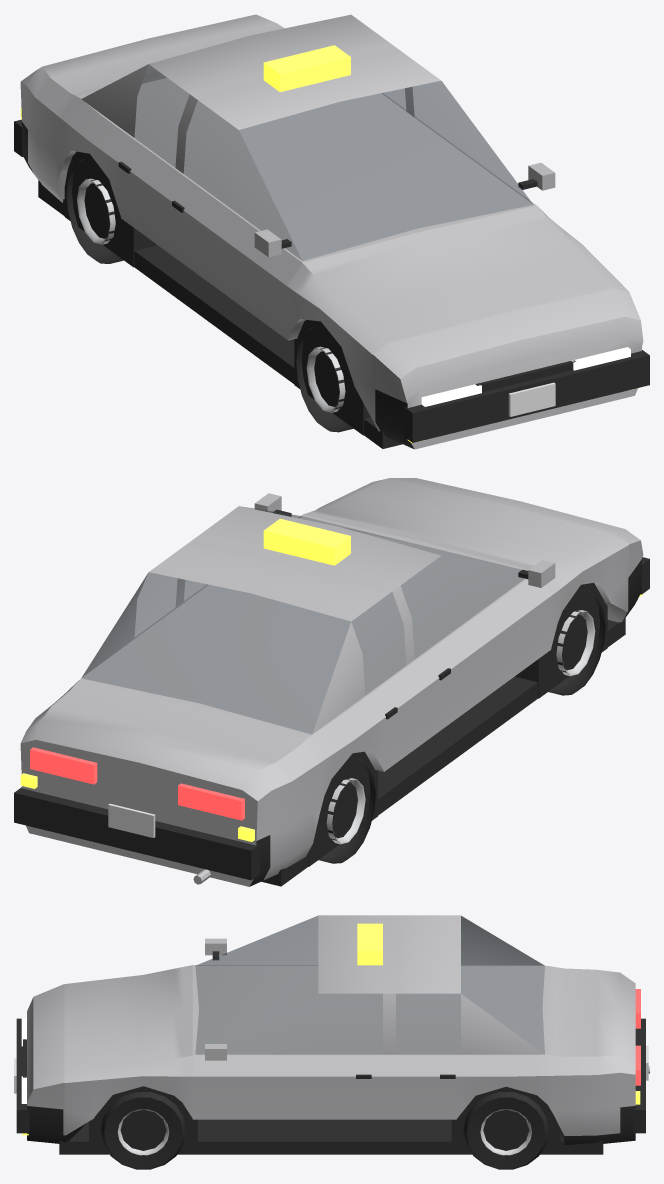
Rendered from taxi.glb.
3 views of the same model, one above another, from view 1: azimuth 30°, elevation 25°; view 2: azimuth 150°, elevation 25°; view 3: azimuth 270°, elevation 25° (orthographic). The views are drawn at different scales.
Visible parts, largest first — view 1: body, toplight, wheel_fl, wheel_rl; view 2: body, toplight, wheel_fl, wheel_rl; view 3: body, wheel_fr, wheel_rr, toplight.
Part boxes in pixels (x1,y1,x2,y2): body: [14, 14, 649, 449]; toplight: [263, 45, 350, 92]; wheel_fl: [296, 327, 353, 432]; wheel_rl: [66, 158, 123, 263]; body: [14, 478, 649, 886]; toplight: [263, 518, 350, 565]; wheel_fl: [548, 590, 605, 695]; wheel_rl: [318, 758, 375, 863]; body: [14, 915, 649, 1154]; wheel_fr: [100, 1092, 186, 1169]; wheel_rr: [463, 1092, 548, 1169]; toplight: [357, 923, 382, 965].
Bounding box in the file's own units: 2.02 × 1.56 × 4.91.
